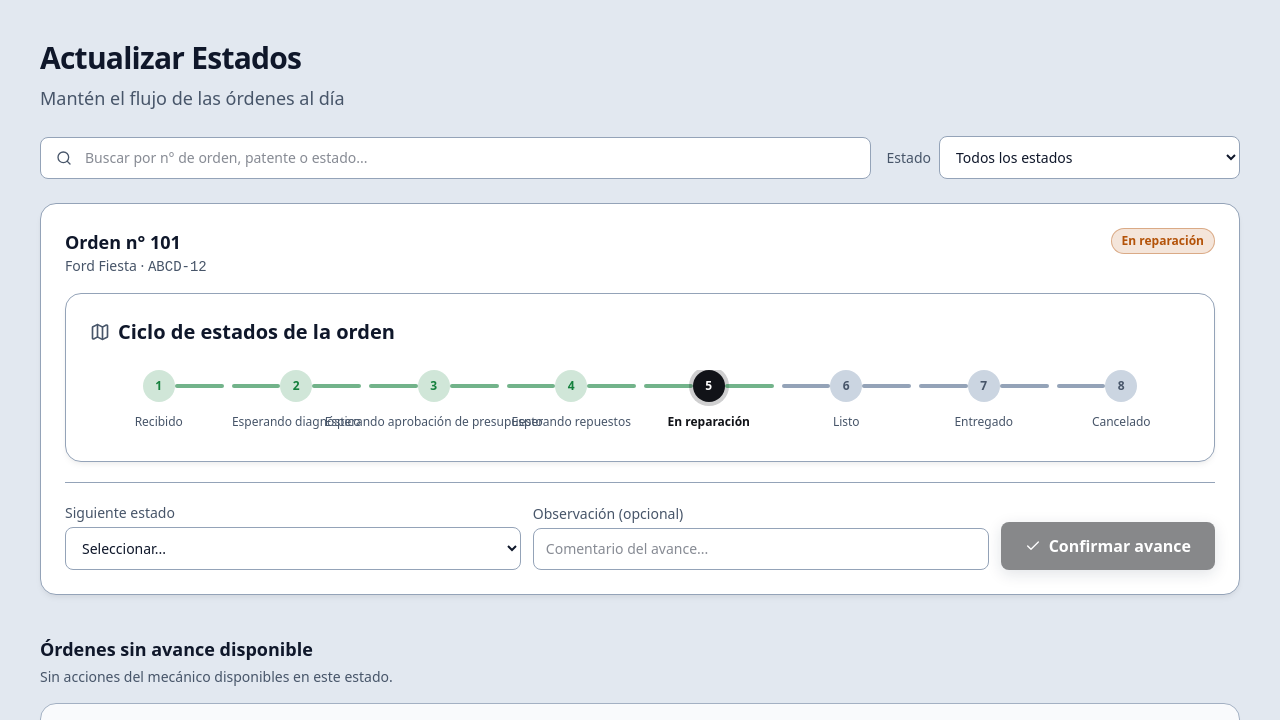
Scenario: MechanicStatusPage: actualización de estados de las órdenes › filtra por estado desde la barra de herramientas
Expected: the heading "Orden n° 101" is shown, x1=65 y1=230 x2=181 y2=254
Select "Recibido" in the dropdown named "Filtrar por estado" at coordinates (1090, 158), box x1=939 y1=136 x2=1240 y2=179
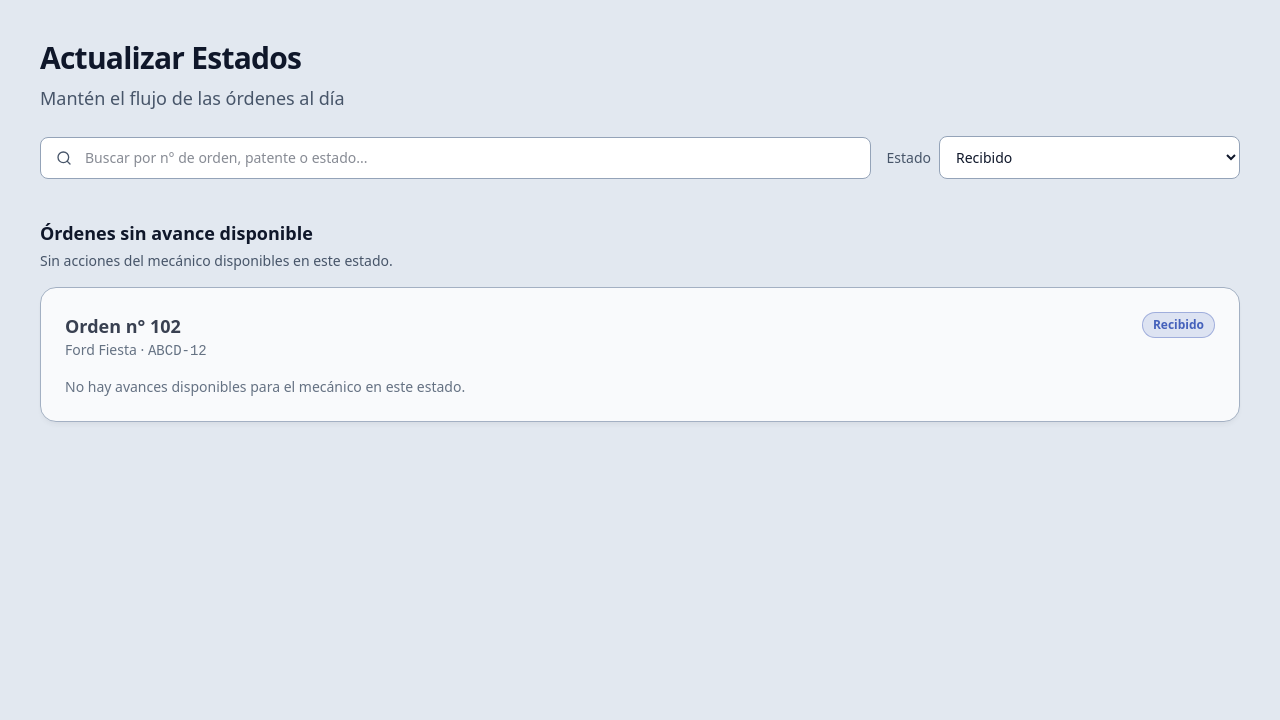
Expected: the heading "Orden n° 102" is shown, x1=65 y1=314 x2=181 y2=338
Now the heading "Orden n° 101" is gone
